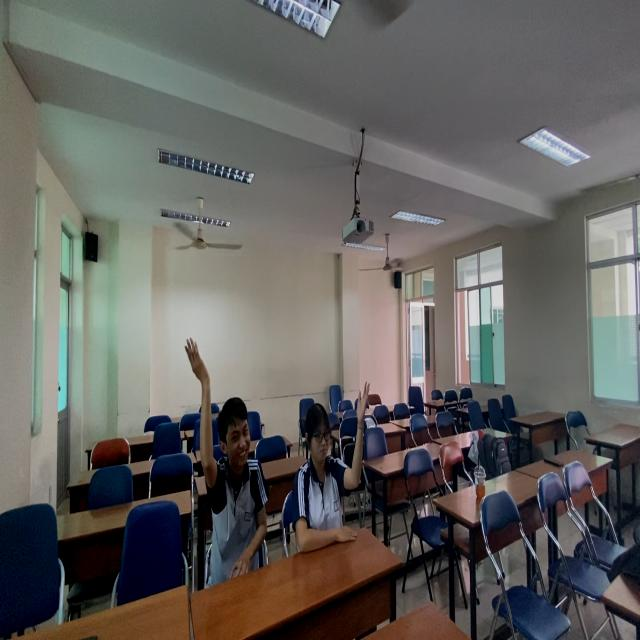raise_hand: (186, 335, 272, 583), (291, 375, 371, 548)
